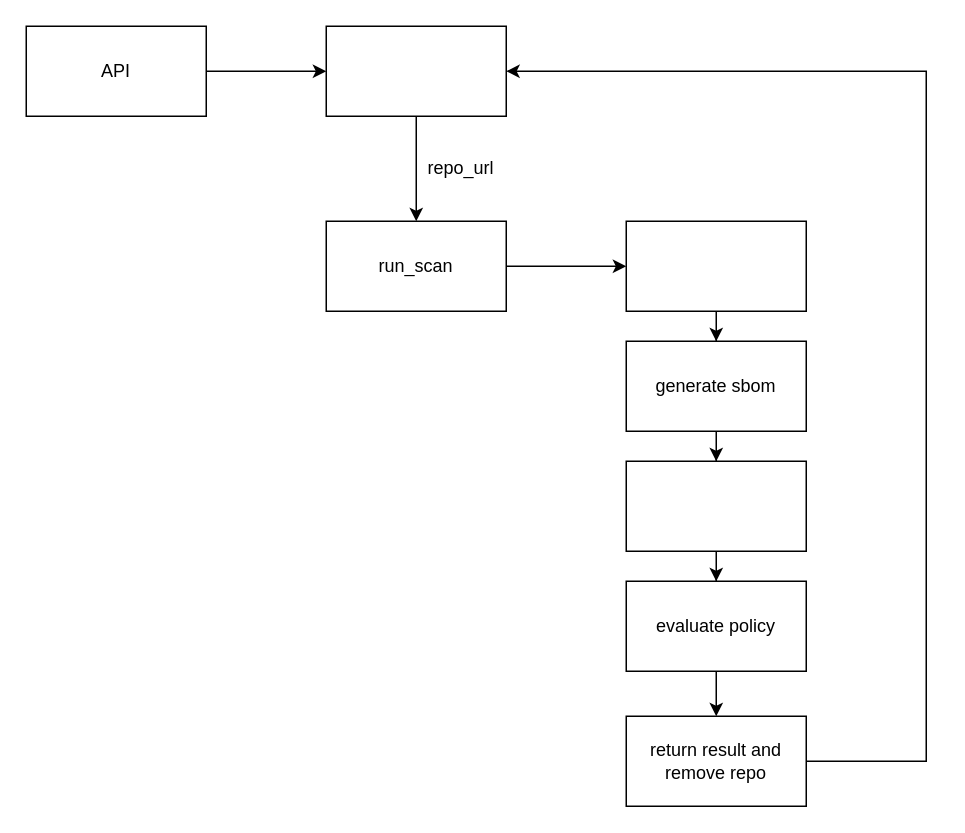
Some shapes in this 965 by 833 pixel diagram are drawn without their labels. The centre of each missing label's shape, as x and y in pixels:
"/scan" goes at (415,70).
"clone repo" goes at (715,265).
"scan vulnerabilities" goes at (715,505).
